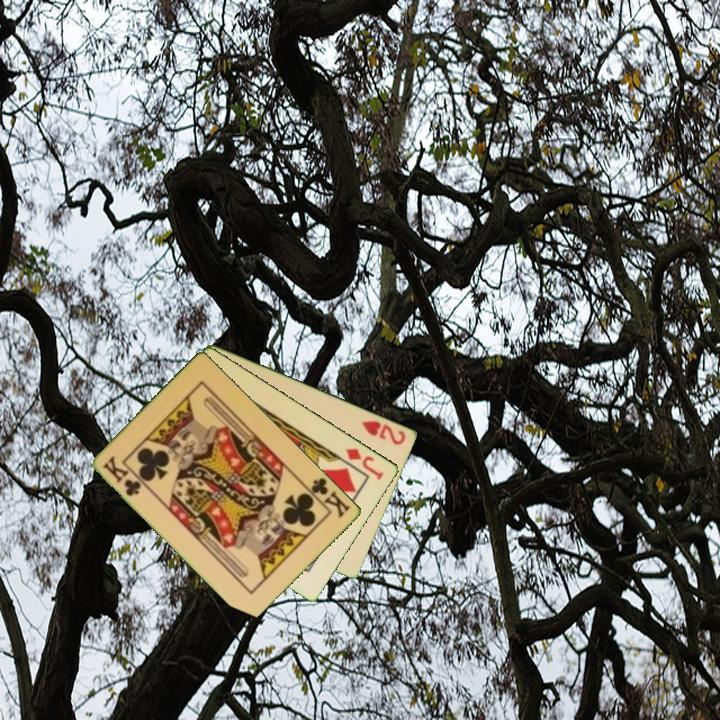2h: (359, 417, 409, 448)
Jd: (342, 444, 387, 483)
Kc: (302, 474, 354, 521), (99, 452, 144, 499)
